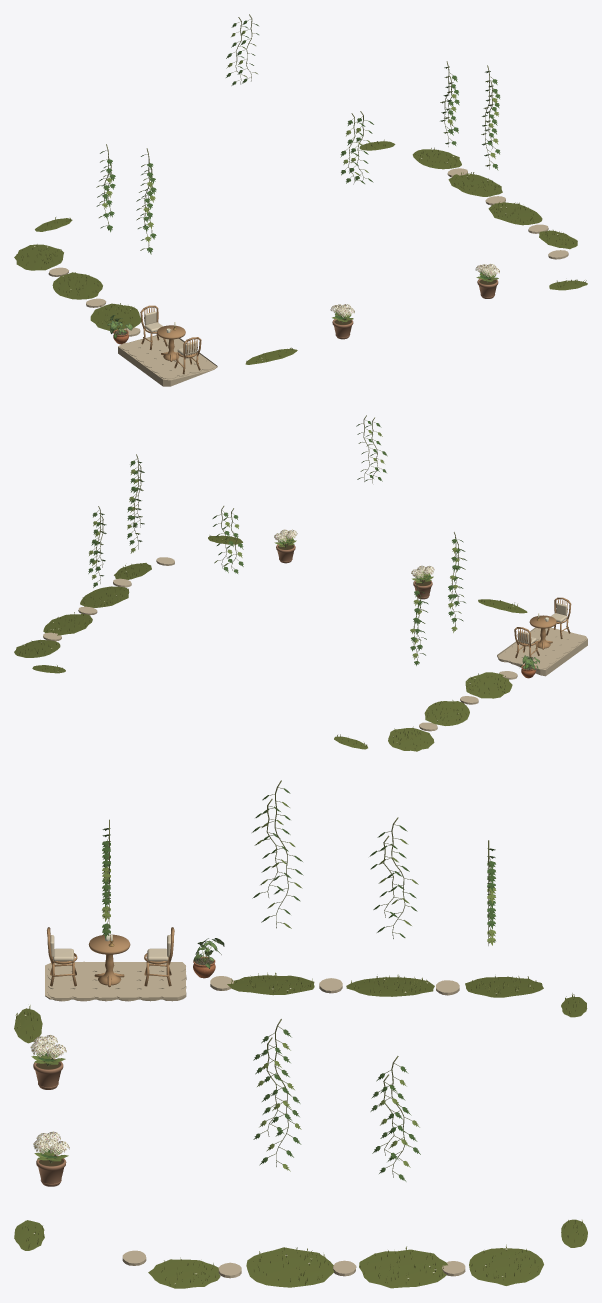
The model's file is garden.glb.
3 renders of one model, top to bottom at view 1: azimuth 30°, elevation 25°; view 2: azimuth 150°, elevation 25°; view 3: azimuth 270°, elevation 25°, orthographic. The views are drawn at different scales.
Parts seen in each view (by area): view 1: Garden · irregular moss islands, Garden · worn sandstone pavers, Garden · deep botanical green, Garden · woody stems, Garden · oiled walnut, Garden · straw green blades, Garden · olive leaf variation, Garden · warm terracotta, Garden · ivory hydrangea petals; view 2: Garden · irregular moss islands, Garden · worn sandstone pavers, Garden · deep botanical green, Garden · woody stems, Garden · oiled walnut, Garden · olive leaf variation, Garden · straw green blades, Garden · warm terracotta, Garden · ivory hydrangea petals; view 3: Garden · irregular moss islands, Garden · worn sandstone pavers, Garden · deep botanical green, Garden · woody stems, Garden · oiled walnut, Garden · straw green blades, Garden · olive leaf variation, Garden · ivory hydrangea petals, Garden · warm terracotta, Garden · oat linen seat cushion.
Part boxes in pixels (x1=…): Garden · irregular moss islands: x1=14, y1=141, x2=587, y2=364; Garden · worn sandstone pavers: x1=48, y1=168, x2=568, y2=386; Garden · deep botanical green: x1=96, y1=20, x2=500, y2=319; Garden · woody stems: x1=100, y1=14, x2=497, y2=322; Garden · oiled walnut: x1=140, y1=305, x2=201, y2=374; Garden · straw green blades: x1=16, y1=139, x2=586, y2=362; Garden · olive leaf variation: x1=96, y1=30, x2=498, y2=321; Garden · warm terracotta: x1=332, y1=278, x2=498, y2=339; Garden · ivory hydrangea petals: x1=34, y1=143, x2=576, y2=360; Garden · irregular moss islands: x1=14, y1=535, x2=527, y2=751; Garden · worn sandstone pavers: x1=43, y1=557, x2=587, y2=731; Garden · deep botanical green: x1=88, y1=421, x2=466, y2=665; Garden · woody stems: x1=90, y1=415, x2=461, y2=660; Garden · oiled walnut: x1=514, y1=597, x2=571, y2=658; Garden · olive leaf variation: x1=89, y1=430, x2=465, y2=659; Garden · straw green blades: x1=19, y1=535, x2=524, y2=750; Garden · warm terracotta: x1=276, y1=543, x2=432, y2=599; Garden · ivory hydrangea petals: x1=24, y1=529, x2=548, y2=745; Garden · irregular moss islands: x1=14, y1=975, x2=587, y2=1288; Garden · worn sandstone pavers: x1=45, y1=961, x2=465, y2=1278; Garden · deep botanical green: x1=37, y1=788, x2=495, y2=1181; Garden · woody stems: x1=40, y1=780, x2=492, y2=1177; Garden · oiled walnut: x1=47, y1=927, x2=174, y2=987; Garden · straw green blades: x1=15, y1=972, x2=585, y2=1286; Garden · olive leaf variation: x1=31, y1=802, x2=496, y2=1171; Garden · ivory hydrangea petals: x1=17, y1=934, x2=583, y2=1283; Garden · warm terracotta: x1=33, y1=1058, x2=66, y2=1186; Garden · oat linen seat cushion: x1=50, y1=935, x2=170, y2=961.
Size of the model in its own units: 13.02 by 5.65 by 9.84.
Materials: 16 (2 with a texture image).
